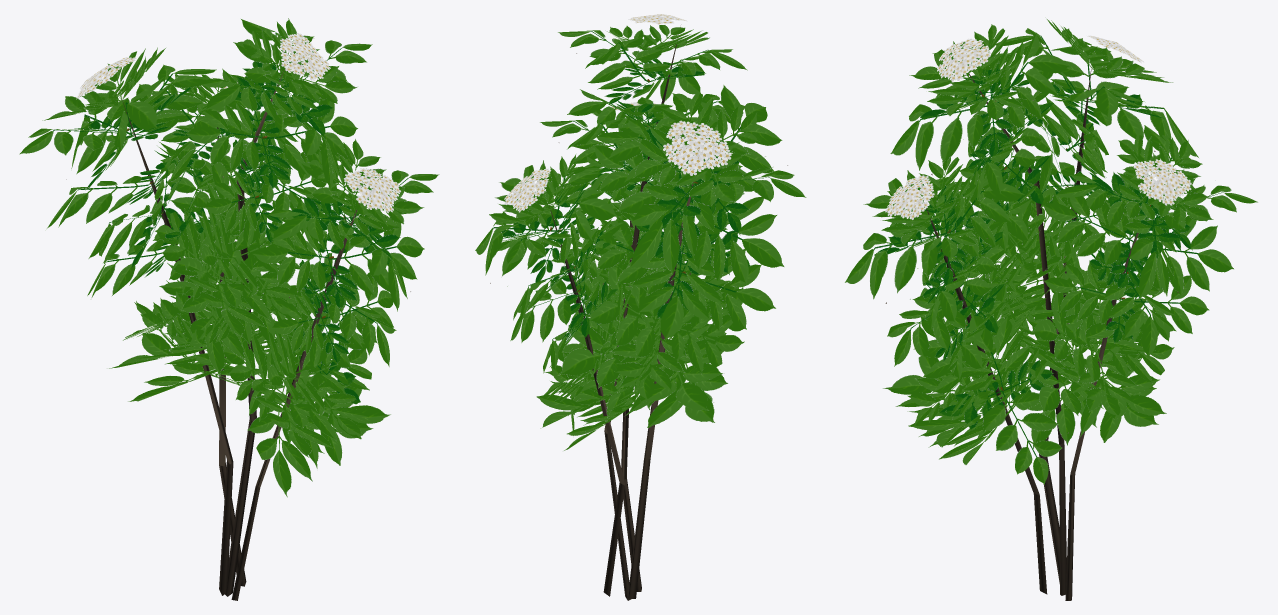
The model's file is PT_Elderberry_03.fbx.
3 renders of one model, left to right at view 1: azimuth 30°, elevation 25°; view 2: azimuth 150°, elevation 25°; view 3: azimuth 270°, elevation 25°, orthographic. The views are drawn at different scales.
Visible parts, largest first — view 1: PT_Elderberry_03_LOD0; view 2: PT_Elderberry_03_LOD0; view 3: PT_Elderberry_03_LOD0.
Boxes of the visible parts, x1,y1,x2,y2 form: PT_Elderberry_03_LOD0: (19, 18, 439, 600); PT_Elderberry_03_LOD0: (475, 14, 806, 600); PT_Elderberry_03_LOD0: (845, 19, 1257, 600).
Size of what is drawn, in the model's own units: 167 by 261 by 176.
